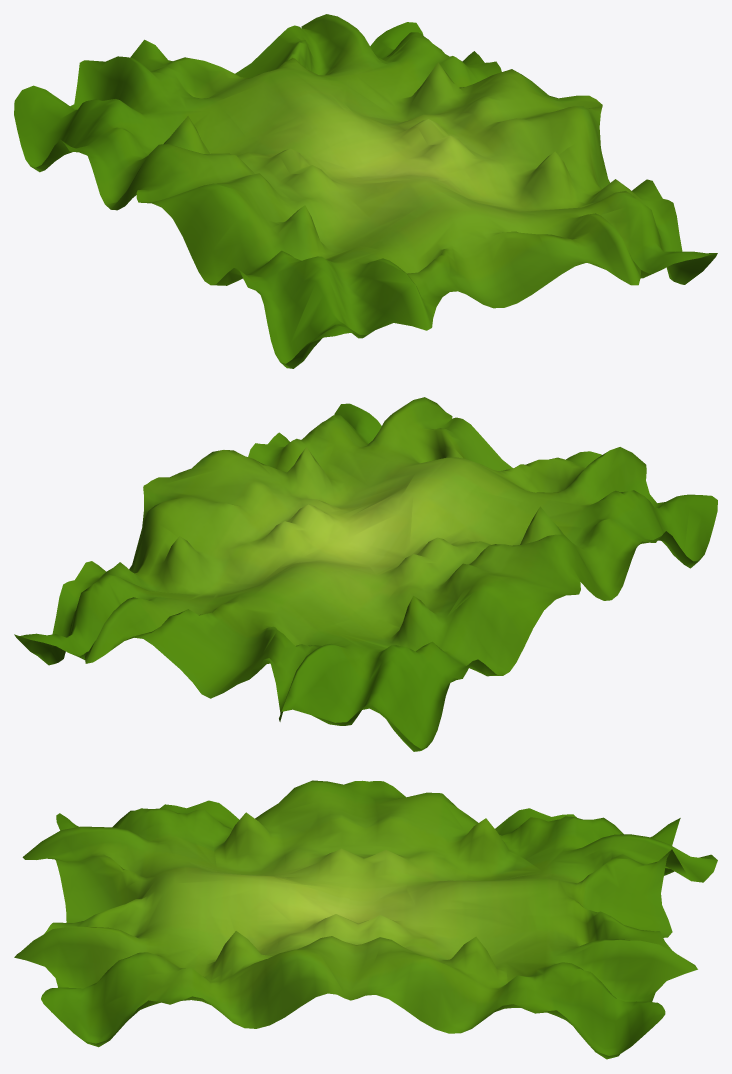
The model's file is greens.fbx.
3 views of the same model, one above another, from view 1: azimuth 30°, elevation 25°; view 2: azimuth 150°, elevation 25°; view 3: azimuth 270°, elevation 25° (orthographic). The views are drawn at different scales.
Parts seen in each view (by area): view 1: greens; view 2: greens; view 3: greens.
Part boxes in pixels (left/top/right/bottom): greens: left=14, top=14, right=717, bottom=368; greens: left=14, top=397, right=717, bottom=751; greens: left=14, top=780, right=717, bottom=1059.
Size of the model in its own units: 26.61 by 6.12 by 36.88.
Materials: 1 (1 with a texture image).
